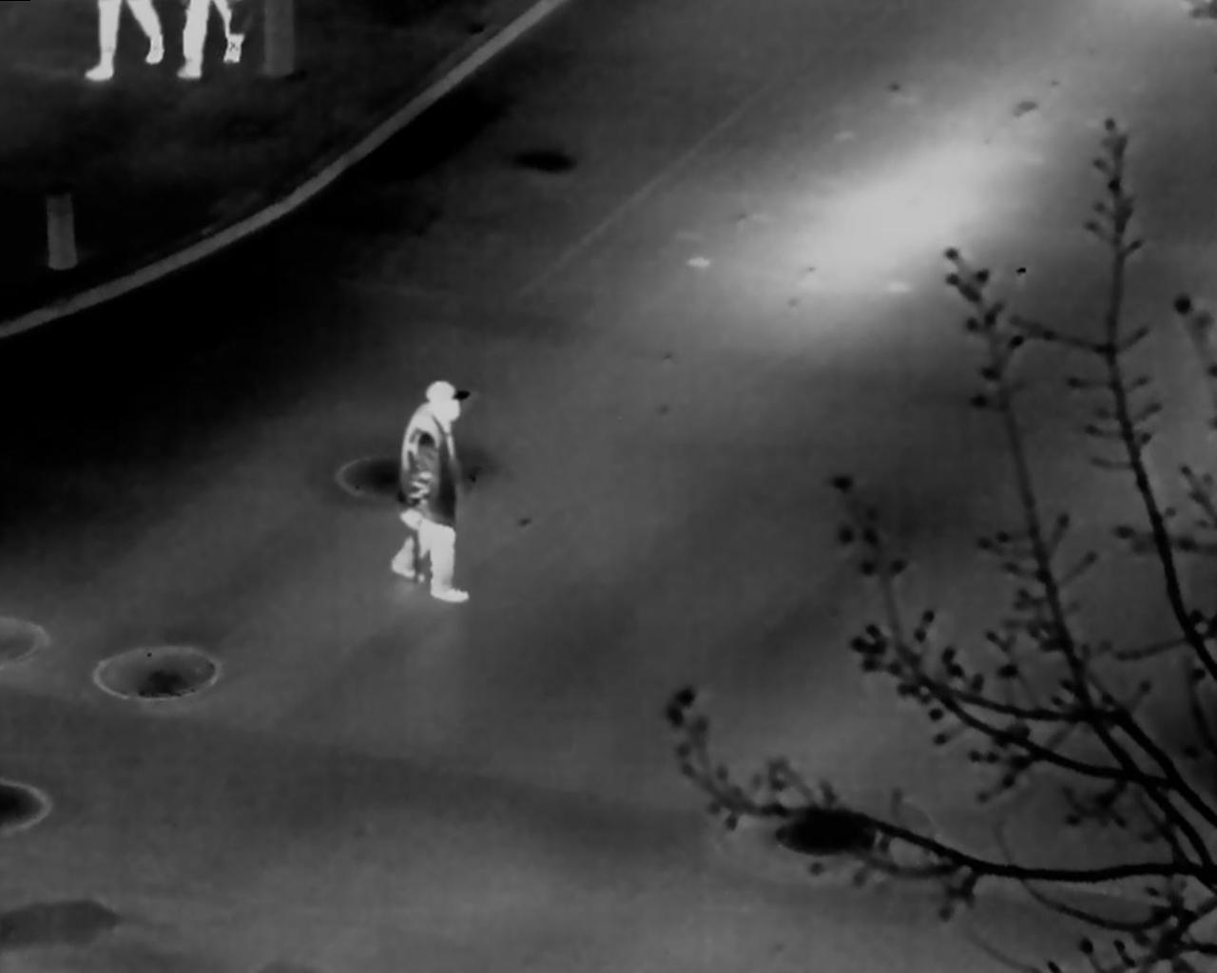person: (386, 380, 473, 601)
